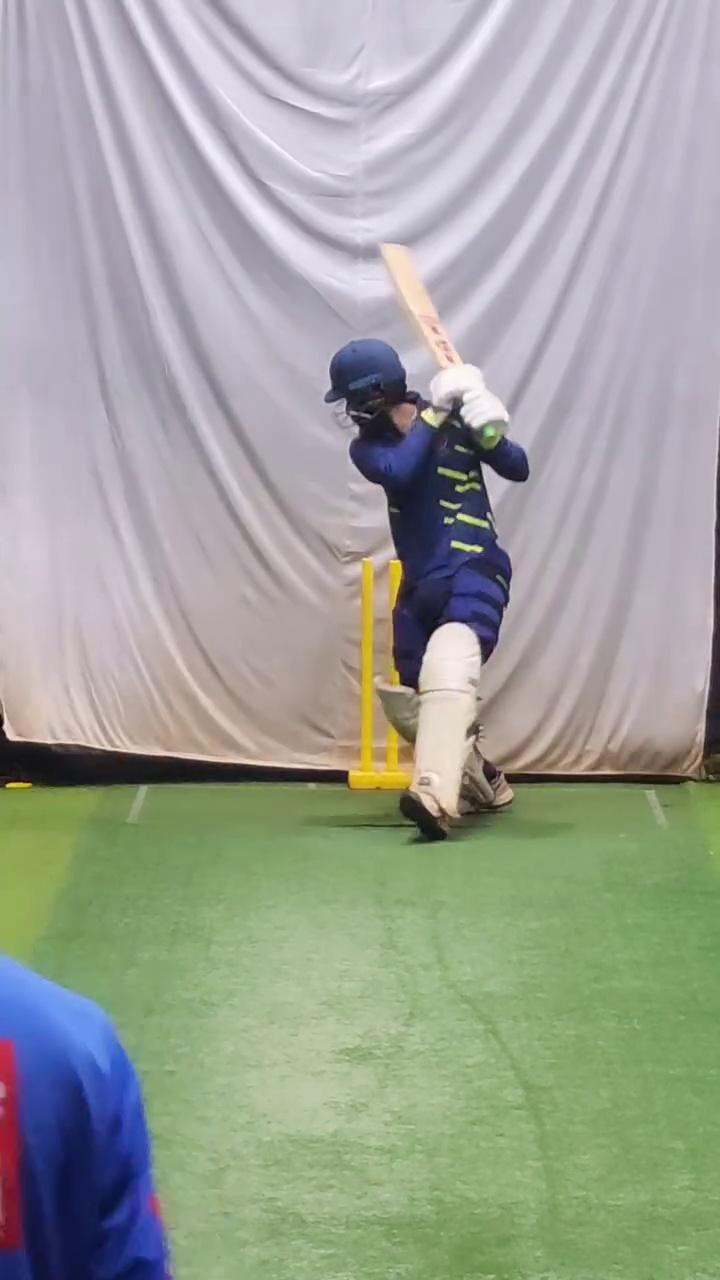bat: (377, 231, 462, 375)
